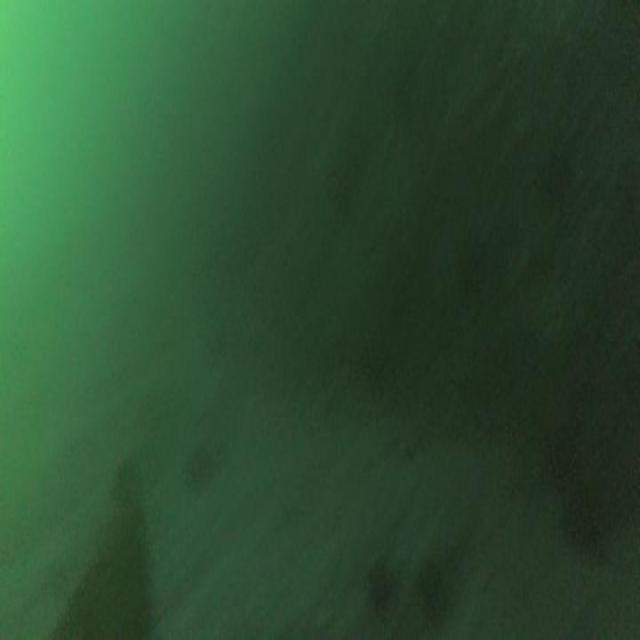echinus: (409, 550, 452, 635), (359, 548, 397, 620), (182, 436, 214, 496)
